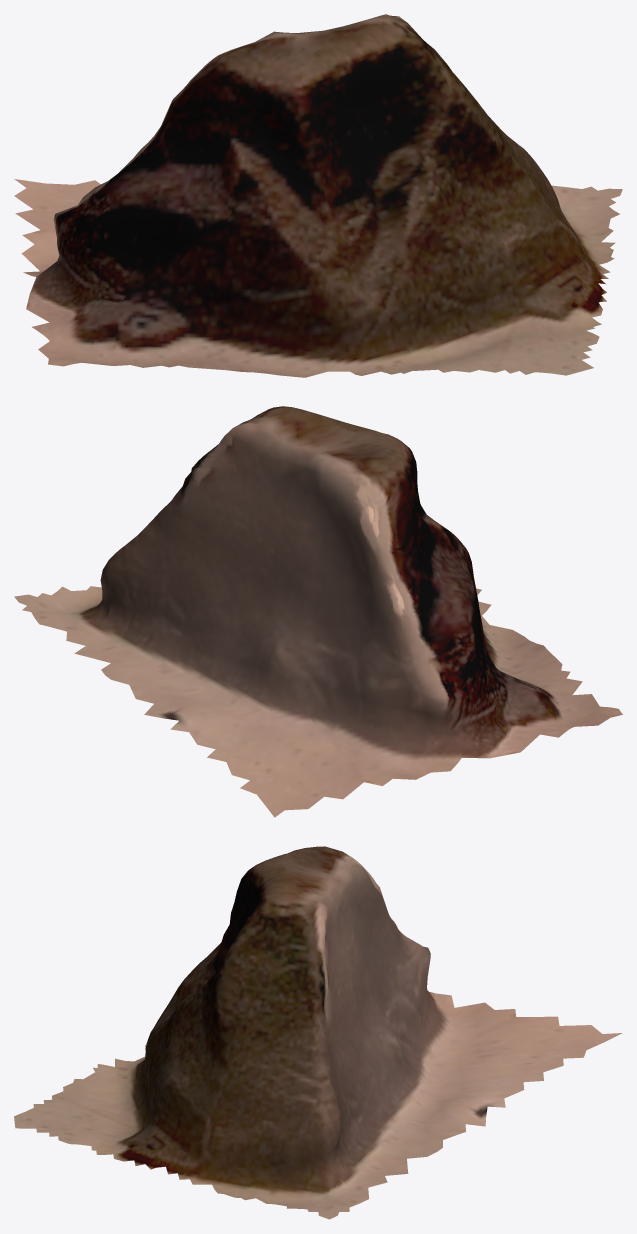
File: rock_4.dae
3 renders of one model, top to bottom at view 1: azimuth 30°, elevation 25°; view 2: azimuth 150°, elevation 25°; view 3: azimuth 270°, elevation 25°, orthographic. The views are drawn at different scales.
Visible parts, largest first — view 1: textured; view 2: textured; view 3: textured.
Part boxes in pixels (<box>): textured: <box>14,14,622,377</box>; textured: <box>14,406,622,817</box>; textured: <box>14,846,622,1219</box>.
Size of the model in its own units: 0.6905 by 0.6788 by 0.2747.
Materials: 6 (6 with a texture image).
